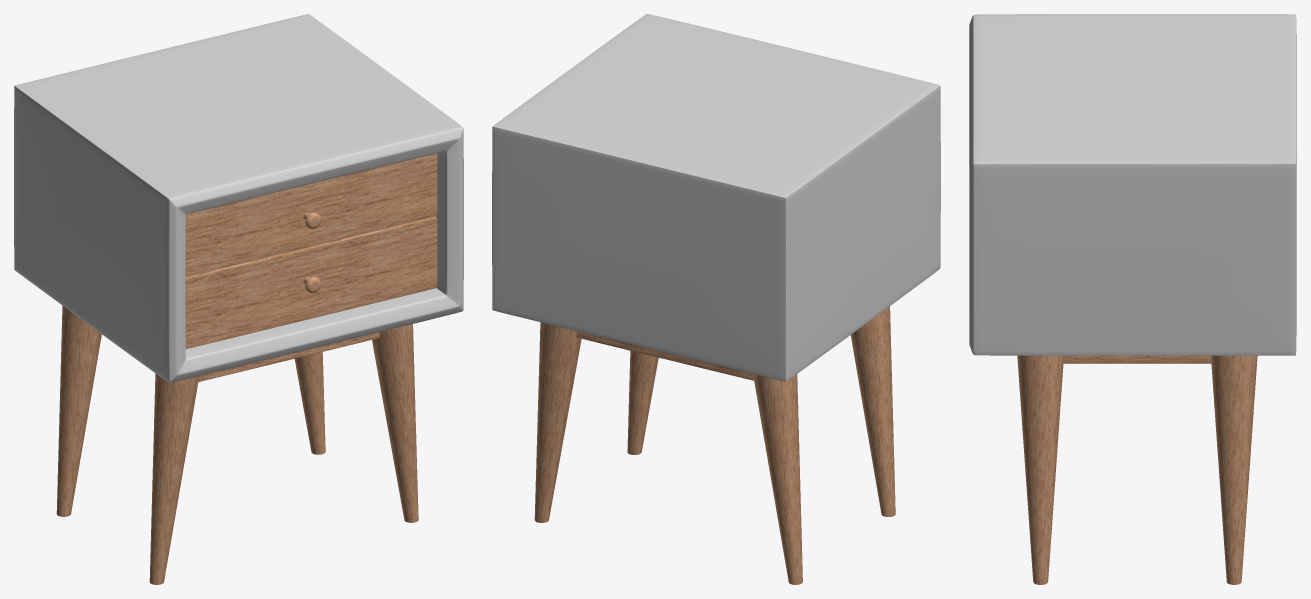
Rendered from other.glb.
3 views of the same model, side by side, from view 1: azimuth 30°, elevation 25°; view 2: azimuth 150°, elevation 25°; view 3: azimuth 270°, elevation 25° (orthographic). The views are drawn at different scales.
Parts seen in each view (by area): view 1: Cube, Cube.002, Cube.001, Cylinder, Cylinder.002, Cylinder.001, Cylinder.003, Cube.006; view 2: Cube, Cylinder.002, Cylinder.003, Cylinder, Cylinder.001, Cube.004; view 3: Cube, Cylinder.001, Cylinder.003, Cube.003.
Part boxes in pixels (x1,y1,x2,y2): Cube: [14, 14, 463, 382]; Cube.002: [185, 216, 437, 348]; Cube.001: [185, 153, 437, 276]; Cylinder: [149, 373, 199, 584]; Cylinder.002: [56, 305, 101, 516]; Cylinder.001: [372, 324, 418, 522]; Cylinder.003: [294, 352, 325, 454]; Cube.006: [198, 332, 379, 381]; Cube: [492, 14, 940, 381]; Cylinder.002: [753, 374, 802, 584]; Cylinder.003: [534, 322, 581, 522]; Cylinder: [850, 306, 895, 516]; Cylinder.001: [627, 351, 658, 454]; Cube.004: [576, 331, 753, 380]; Cube: [969, 14, 1296, 355]; Cylinder.001: [1017, 355, 1063, 584]; Cylinder.003: [1211, 355, 1257, 584]; Cube.003: [1063, 355, 1211, 363].
Size of the model in its own units: 0.3858 by 0.5135 by 0.3555.
Materials: 4 (3 with a texture image).
